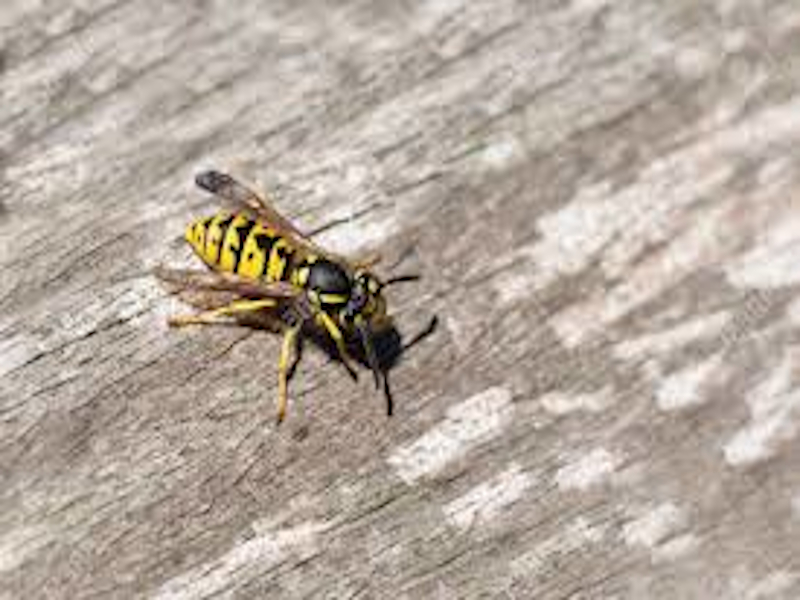chax: (151, 157, 454, 423)
